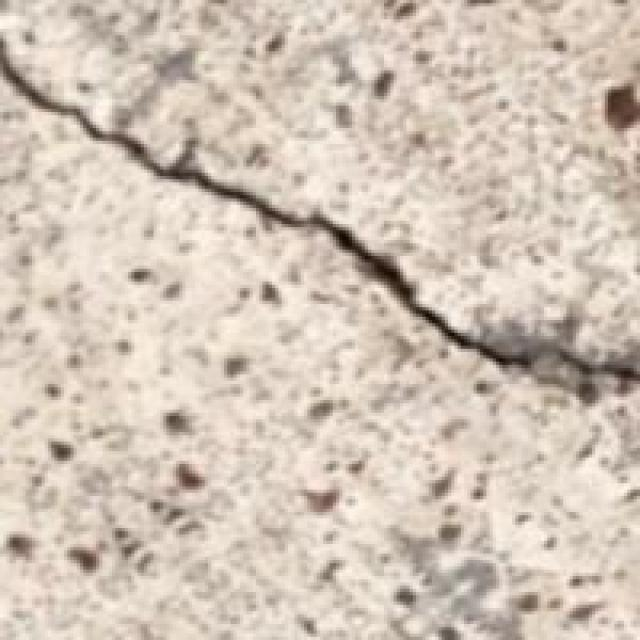crack: (3, 6, 627, 468)
